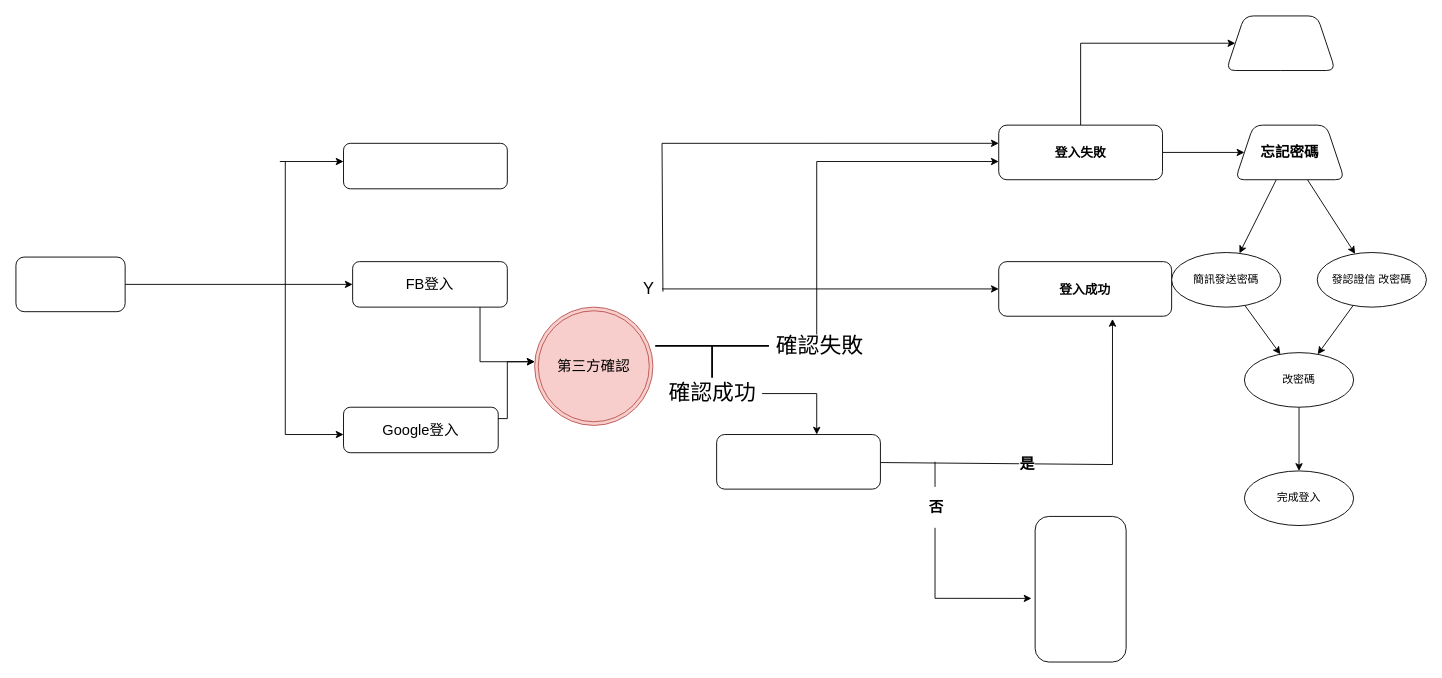
Some shapes in this 1442 by 678 pixel diagram are drawn without their labels. Here are the shapes that lost their labels. From the top down, the centre of each, then its label:
At [1280,43]: "尚未註冊 (請註冊)".
At [425,165]: "帳號(EMAIL)密碼登入".
At [70,284]: "會員登入".
At [798,461]: "是否已註冊會員".
At [1080,589]: "自動加入會員".
